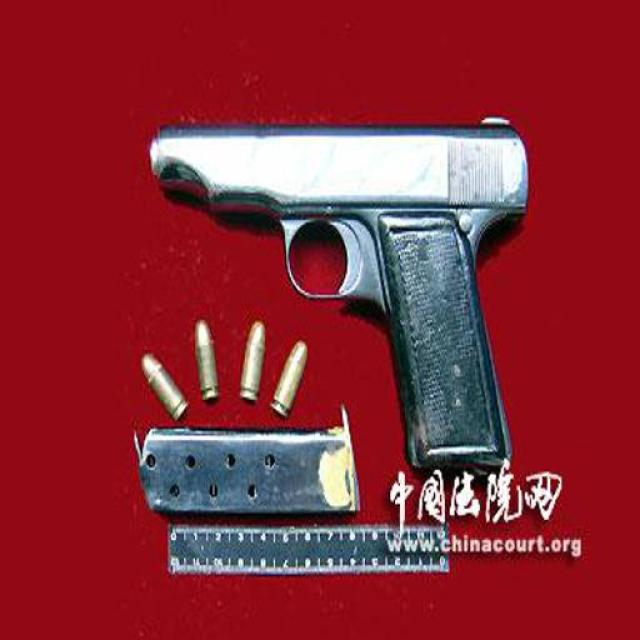pistol: (145, 113, 529, 479)
